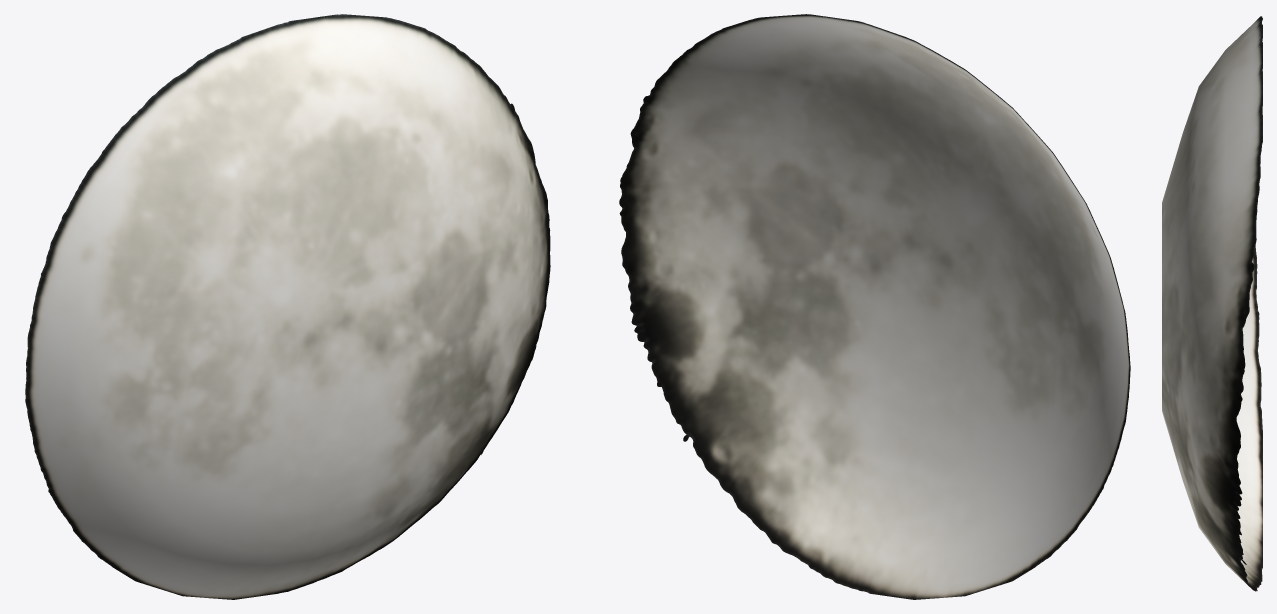
File: Moon.fbx
3 views of the same model, side by side, from view 1: azimuth 30°, elevation 25°; view 2: azimuth 150°, elevation 25°; view 3: azimuth 270°, elevation 25° (orthographic). The views are drawn at different scales.
Parts seen in each view (by area): view 1: moon; view 2: moon; view 3: moon.
Boxes of the visible parts, box(x1,y1,x2,y2) form: moon: box(25, 14, 550, 599); moon: box(619, 14, 1130, 599); moon: box(1162, 16, 1262, 591).
Bounding box in the file's own units: 2000 × 2000 × 344.
